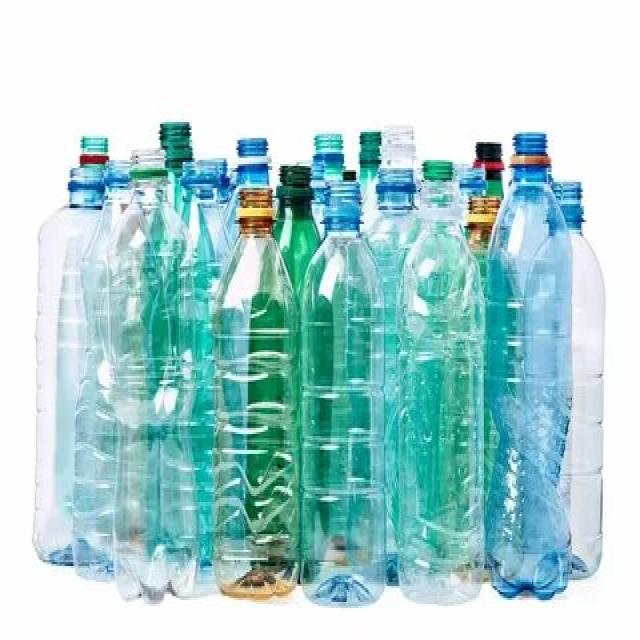blue: (485, 134, 571, 598), (304, 178, 386, 608), (38, 165, 112, 577)
green: (276, 162, 318, 255)
